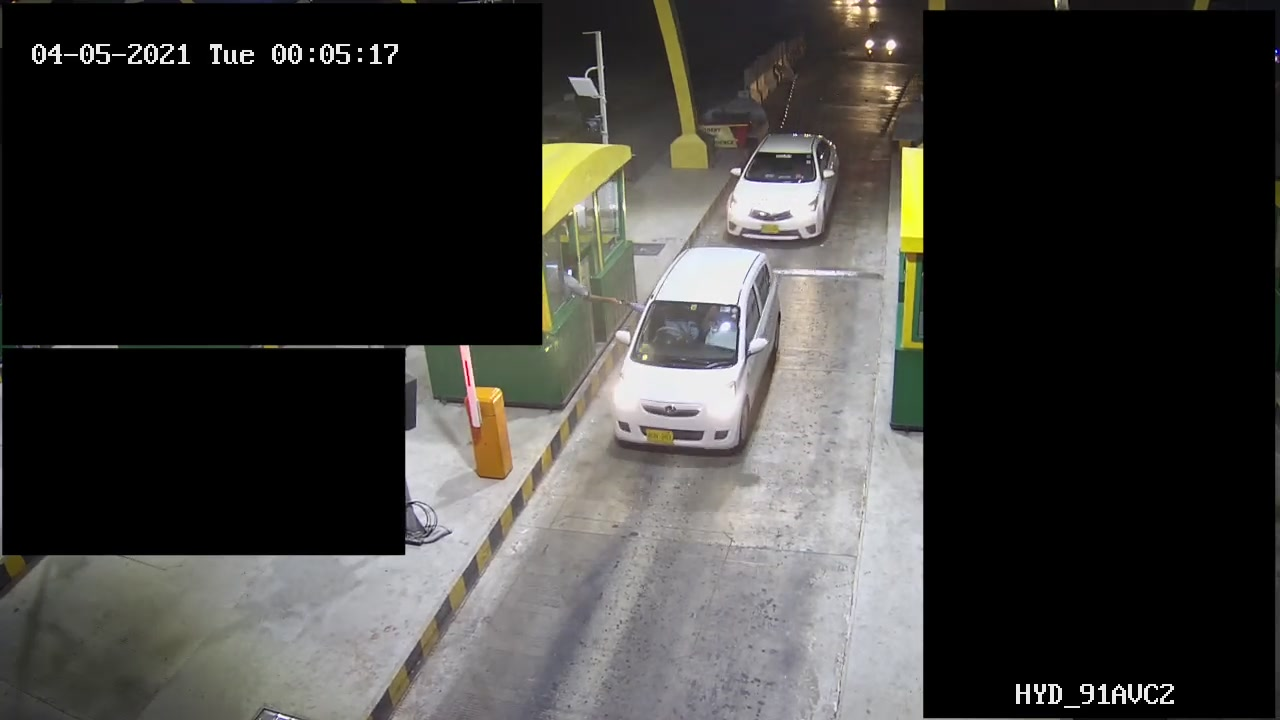F1: (608, 247, 783, 473), (719, 128, 856, 242)
